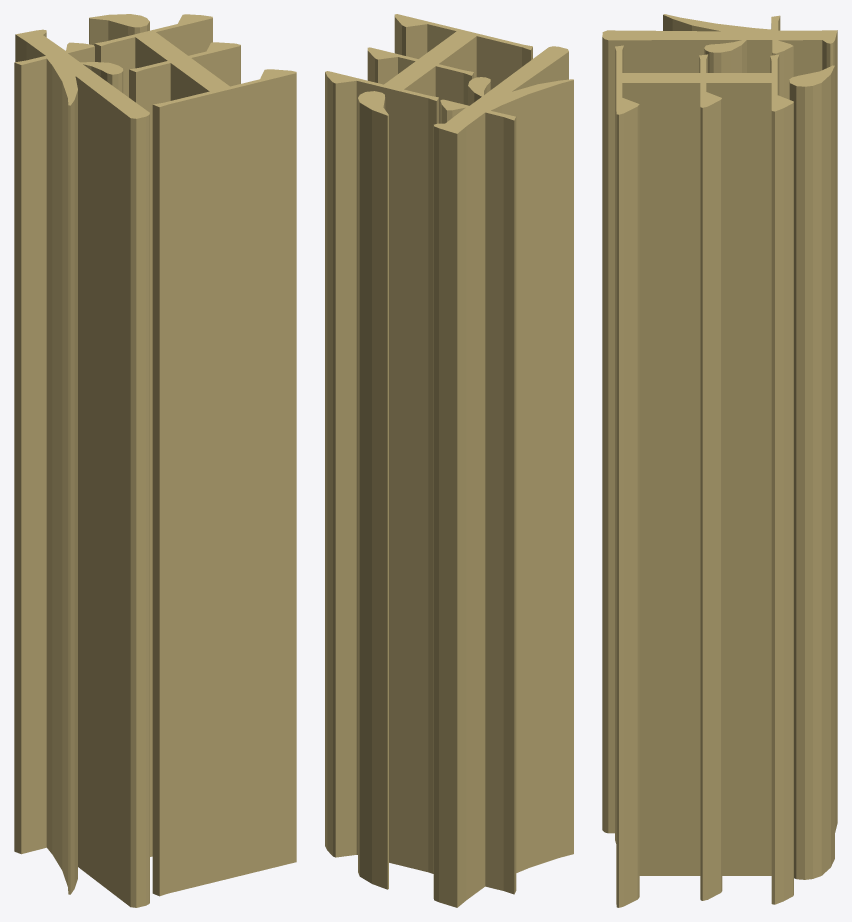
Rendered from moji_hashira.obj.
The picture shows the model from 3 angles, left to right: view 1: azimuth 30°, elevation 25°; view 2: azimuth 150°, elevation 25°; view 3: azimuth 270°, elevation 25°; orthographic projection. The views are drawn at different scales.
Parts seen in each view (by area): view 1: Text; view 2: Text; view 3: Text.
Boxes of the visible parts, x1,y1,x2,y2 form: Text: (14,14,296,907); Text: (325,14,573,907); Text: (602,14,837,907).
Bounding box in the file's own units: 0.2726 × 1 × 0.2686.
